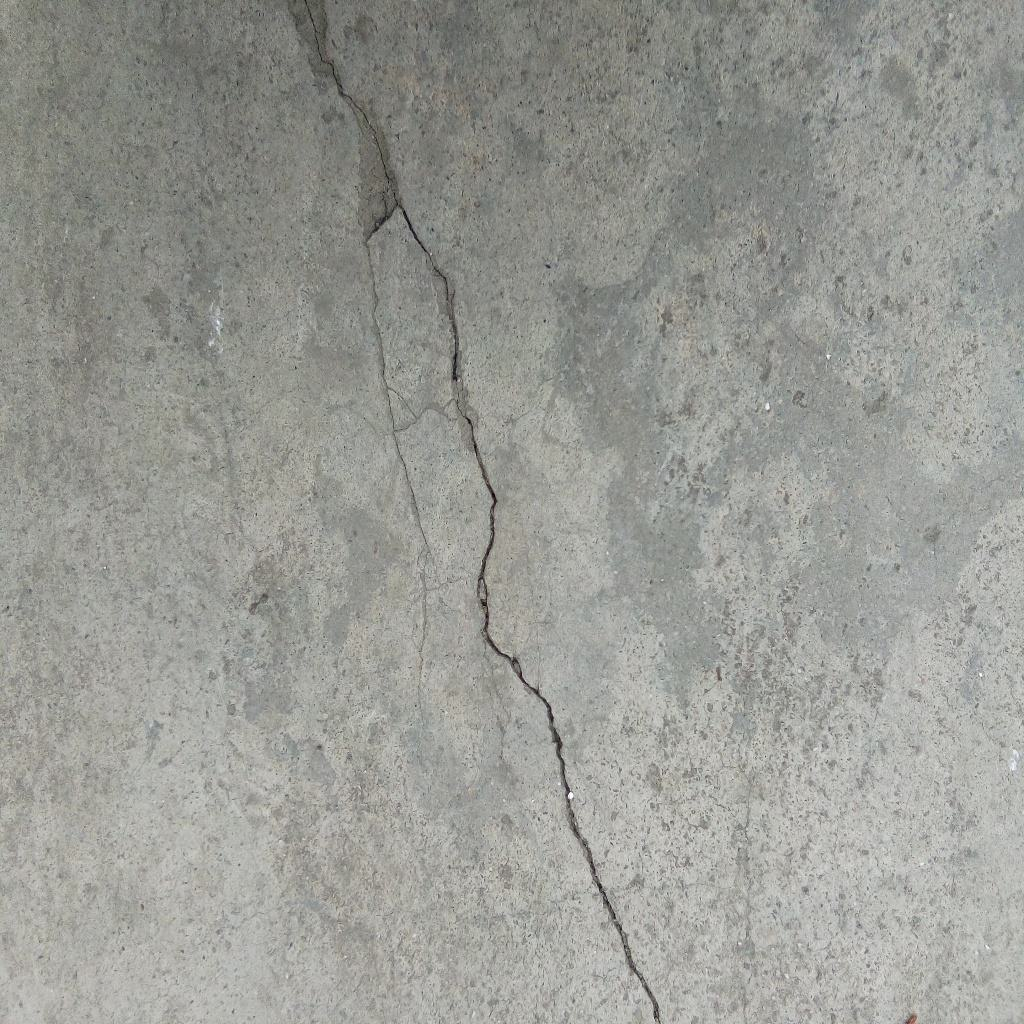Crack: (285, 1, 662, 1024)
